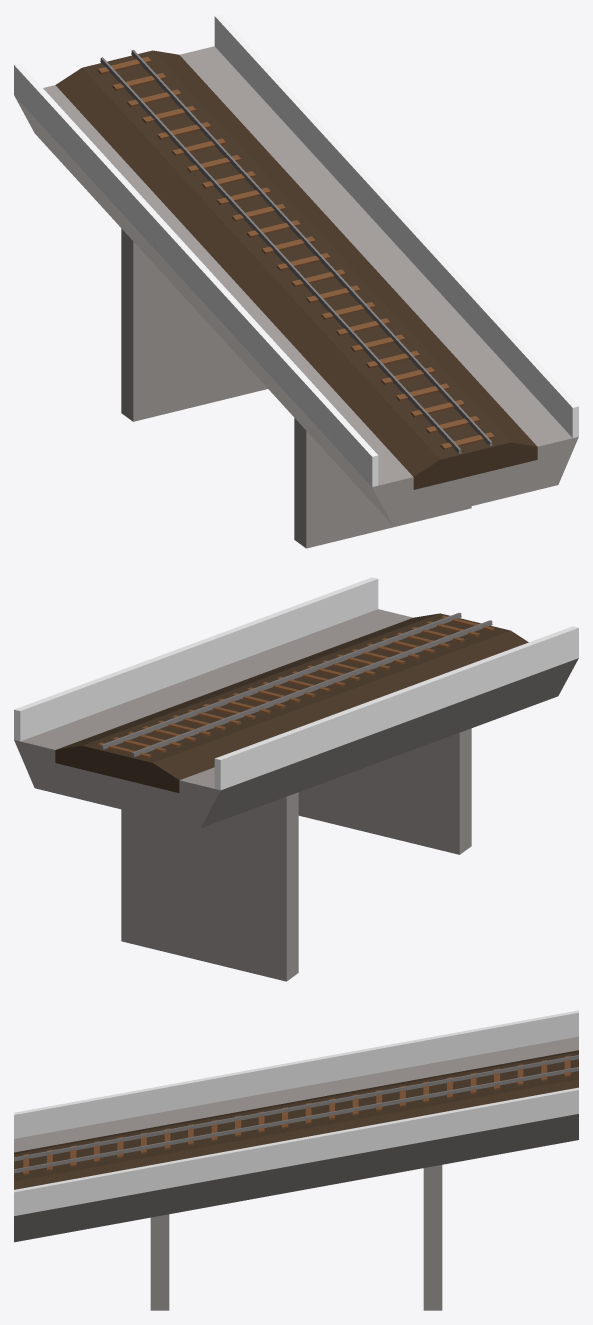
Rendered from bridge-rail-hill.fbx.
The picture shows the model from 3 angles, top to bottom: view 1: azimuth 30°, elevation 25°; view 2: azimuth 150°, elevation 25°; view 3: azimuth 270°, elevation 25°; orthographic projection. The views are drawn at different scales.
Parts seen in each view (by area): view 1: bridge-rail-hill; view 2: bridge-rail-hill; view 3: bridge-rail-hill.
Boxes of the visible parts, left/top/right/bottom form: bridge-rail-hill: left=14, top=14, right=578, bottom=548; bridge-rail-hill: left=14, top=577, right=578, bottom=981; bridge-rail-hill: left=14, top=1010, right=578, bottom=1310.
Bounding box in the file's own units: 10 × 13.4 × 30.
